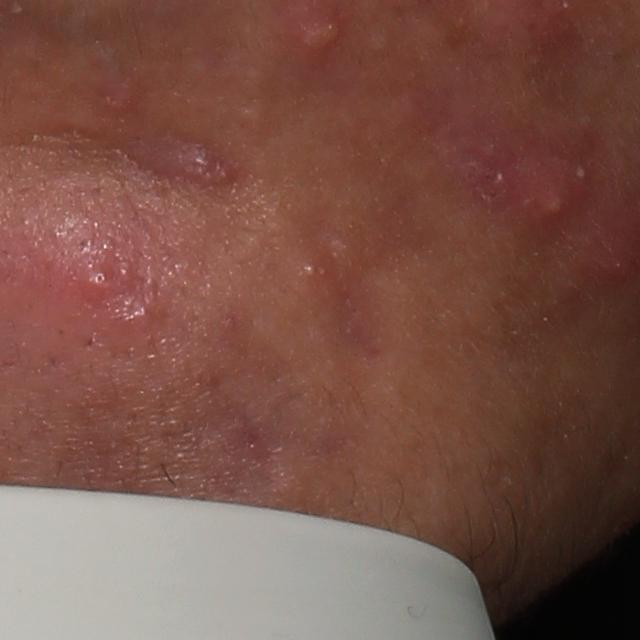papule: (158, 139, 238, 188), (74, 256, 119, 302), (105, 294, 149, 340), (98, 78, 140, 119)
pustule: (506, 156, 607, 236), (291, 3, 347, 65)
